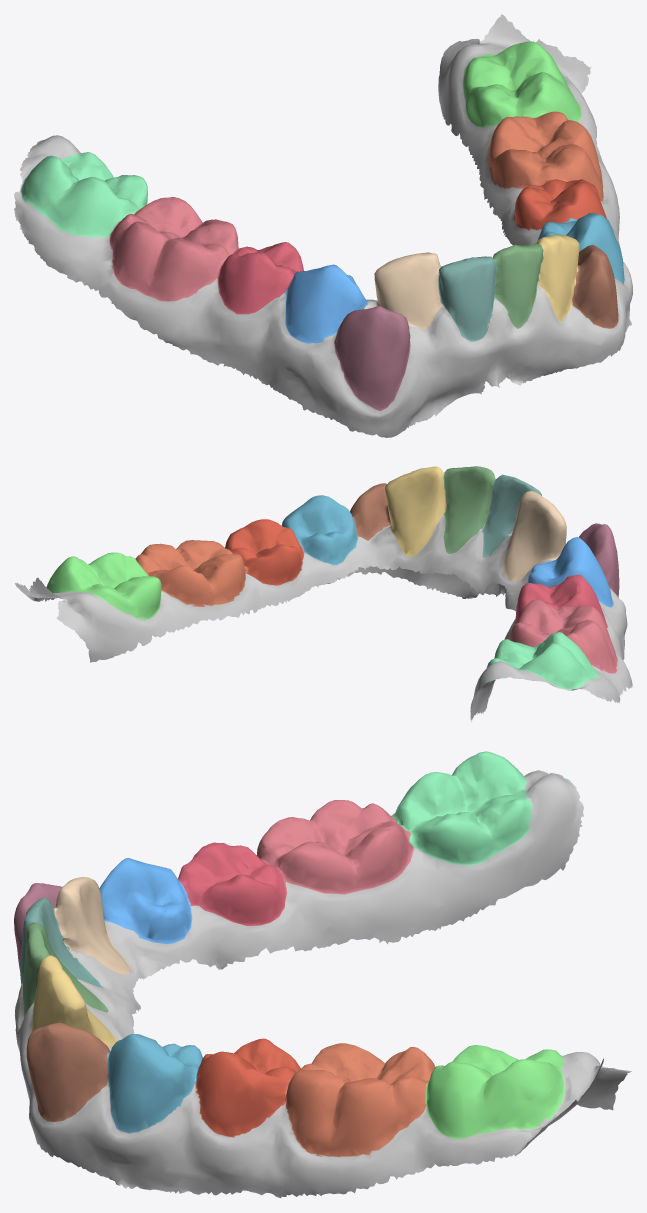
Rendered from ID100023_LOWER.obj.
3 renders of one model, top to bottom at view 1: azimuth 30°, elevation 25°; view 2: azimuth 150°, elevation 25°; view 3: azimuth 270°, elevation 25°, orthographic. The views are drawn at different scales.
Visible parts, largest first — view 1: pred_ID10023_LOWER; view 2: pred_ID10023_LOWER; view 3: pred_ID10023_LOWER.
Boxes of the visible parts, x1,y1,x2,y2 form: pred_ID10023_LOWER: (14,14,632,437); pred_ID10023_LOWER: (15,466,632,722); pred_ID10023_LOWER: (14,751,631,1198).
Size of the model in its own units: 64.38 by 18.48 by 48.45.
